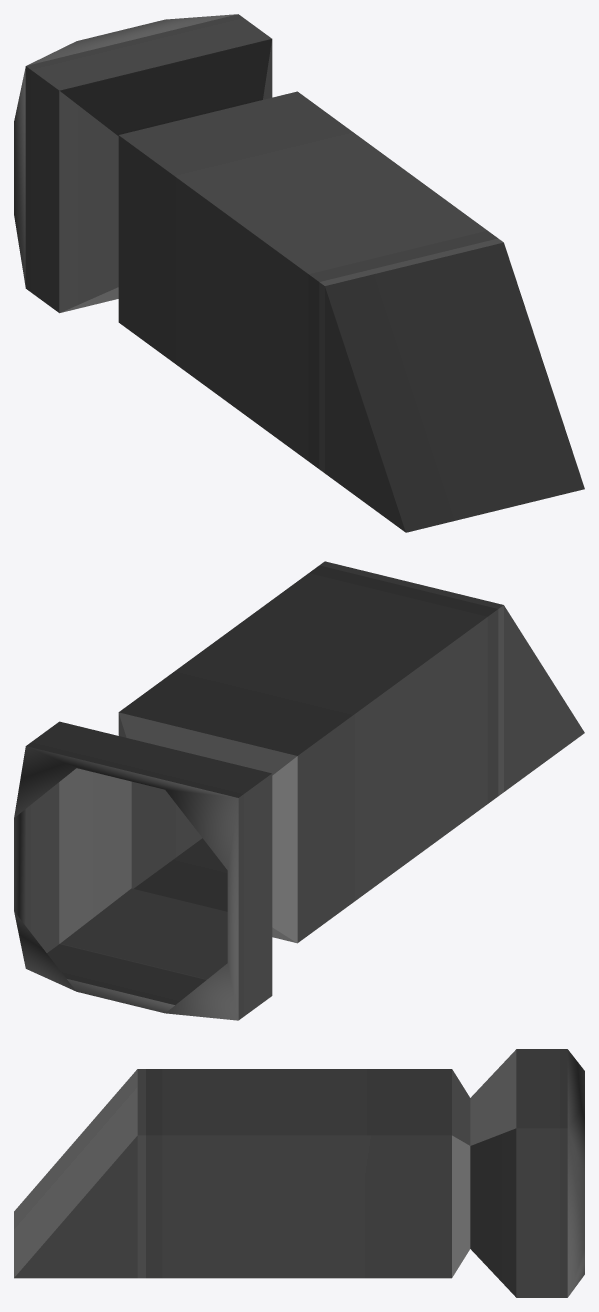
Rendered from stat_top7.glb.
3 renders of one model, top to bottom at view 1: azimuth 30°, elevation 25°; view 2: azimuth 150°, elevation 25°; view 3: azimuth 270°, elevation 25°, orthographic. The views are drawn at different scales.
Visible parts, largest first — view 1: group_19; view 2: group_19; view 3: group_19.
Part boxes in pixels (x1=…): group_19: x1=14, y1=14, x2=584, y2=532; group_19: x1=14, y1=561, x2=584, y2=1020; group_19: x1=14, y1=1049, x2=584, y2=1297.
Size of the model in its own units: 7567 by 7581 by 22975.
Materials: 2 (2 with a texture image).
